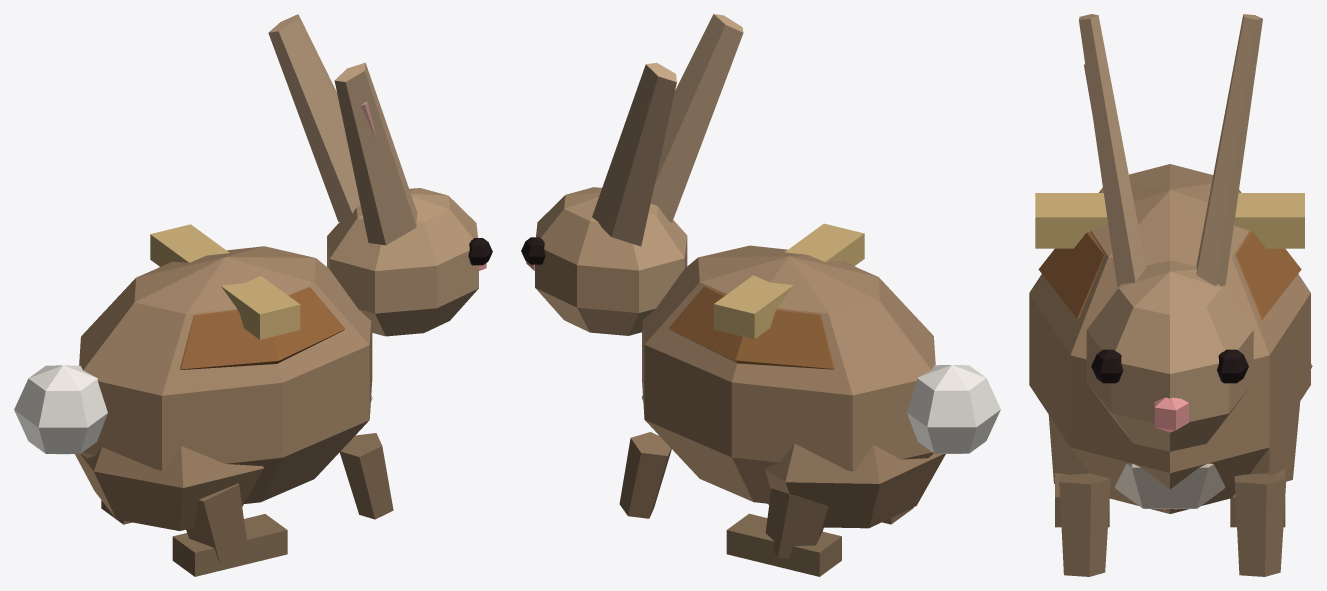
File: rabbit.glb
3 renders of one model, left to right at view 1: azimuth 30°, elevation 25°; view 2: azimuth 150°, elevation 25°; view 3: azimuth 270°, elevation 25°, orthographic. The views are drawn at different scales.
Visible parts, largest first — view 1: body, head, pet_armor, tail, leg_br, leg_fr; view 2: body, head, pet_armor, leg_bl, tail, leg_fl; view 3: head, body, pet_armor, leg_fr, leg_fl, leg_bl, leg_br.
Boxes of the visible parts, x1,y1,x2,y2 form: body: [75, 246, 372, 530]; head: [268, 14, 492, 336]; pet_armor: [150, 224, 344, 369]; tail: [14, 365, 107, 454]; leg_br: [172, 483, 287, 576]; leg_fr: [339, 433, 393, 519]; body: [641, 245, 945, 528]; head: [521, 14, 743, 335]; pet_armor: [669, 223, 864, 369]; leg_bl: [726, 488, 841, 576]; tail: [907, 365, 1000, 453]; leg_fl: [619, 432, 671, 518]; head: [1079, 14, 1262, 451]; body: [1029, 164, 1312, 513]; pet_armor: [1035, 187, 1304, 319]; leg_fr: [1059, 473, 1110, 576]; leg_fl: [1234, 473, 1286, 576]; leg_bl: [1230, 401, 1300, 527]; leg_br: [1048, 415, 1109, 527].
Bounding box in the file's own units: 0.5941 × 0.5673 × 0.2584.
